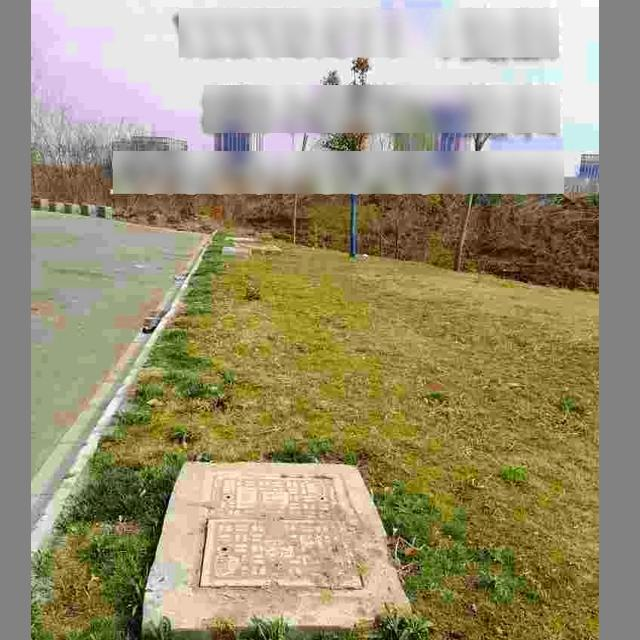good: (190, 472, 372, 595)
